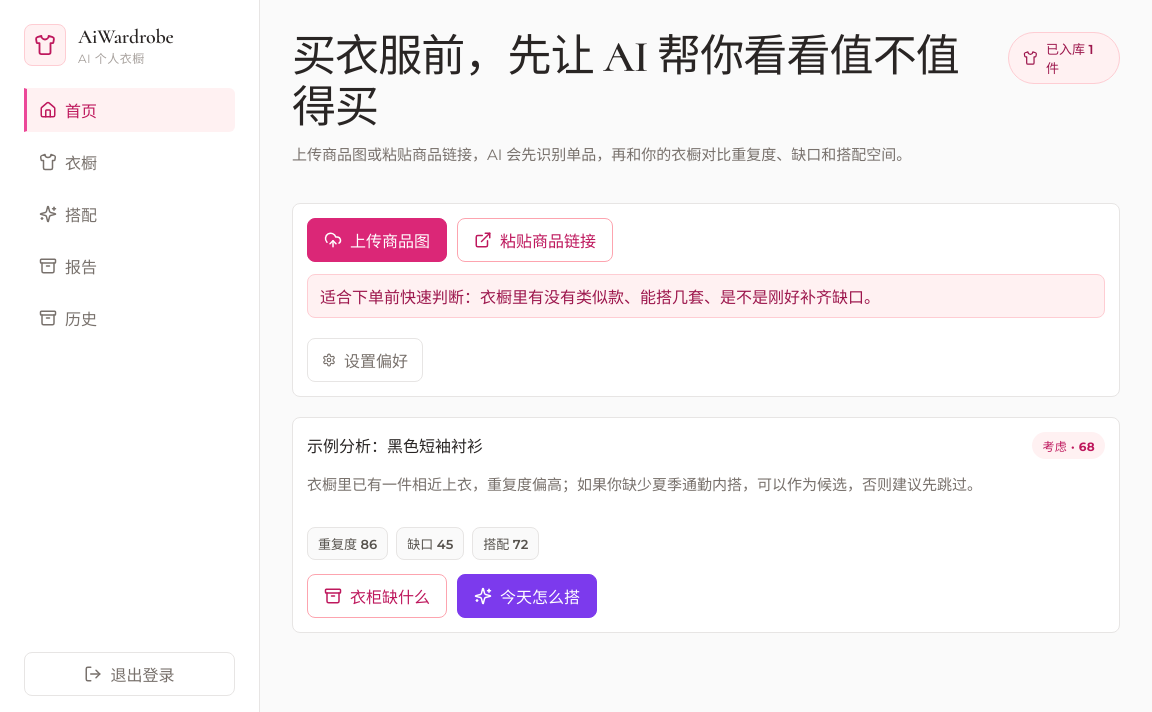
Test: AiWardrobe app › report page shows wardrobe gaps and avoid categories
Click the button "报告".
click(130, 266)  # box 24,244 -> 235,288
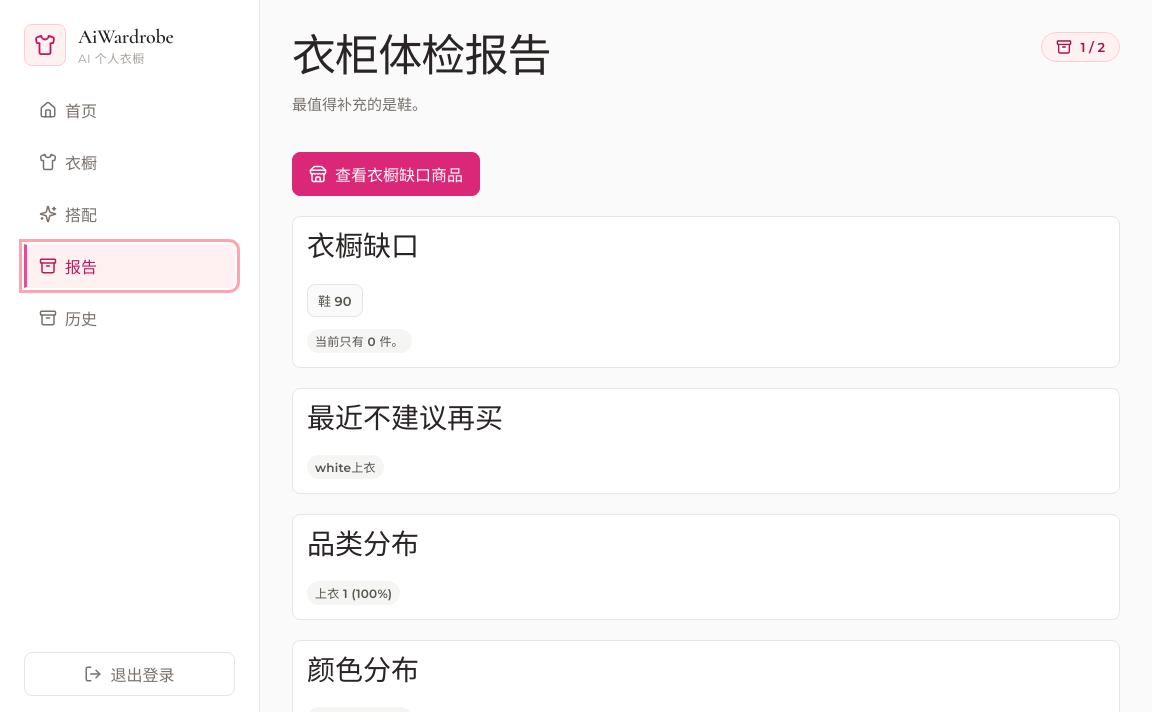
Now the heading "衣柜体检报告" is shown, box 292,32 -> 551,83
Now the text "最值得补充的是鞋。" is shown, box 292,95 -> 427,114
Now the text "1 / 2" is shown, box 1042,32 -> 1120,62
